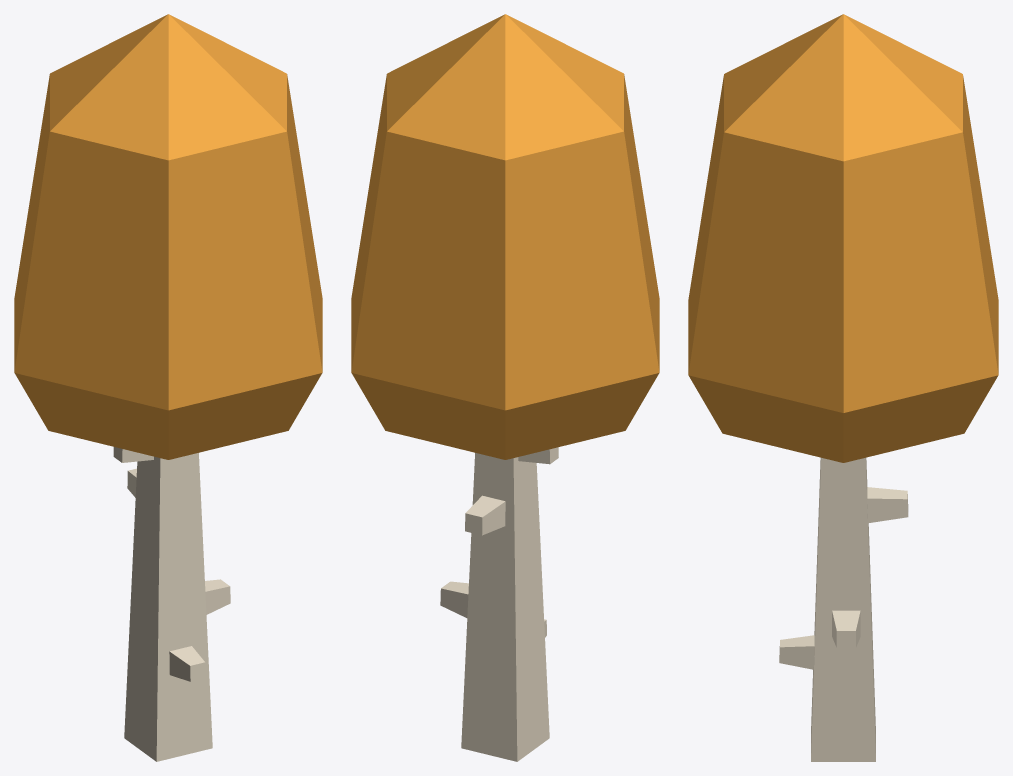
File: tree_autumn.glb
3 views of the same model, side by side, from view 1: azimuth 30°, elevation 25°; view 2: azimuth 150°, elevation 25°; view 3: azimuth 270°, elevation 25° (orthographic).
Visible parts, largest first — view 1: tree_default_fall; view 2: tree_default_fall; view 3: tree_default_fall.
Boxes of the visible parts, x1,y1,x2,y2 form: tree_default_fall: [14, 14, 322, 761]; tree_default_fall: [351, 14, 659, 761]; tree_default_fall: [688, 14, 998, 761].
Bounding box in the file's own units: 0.755 × 1.71 × 0.6539.
